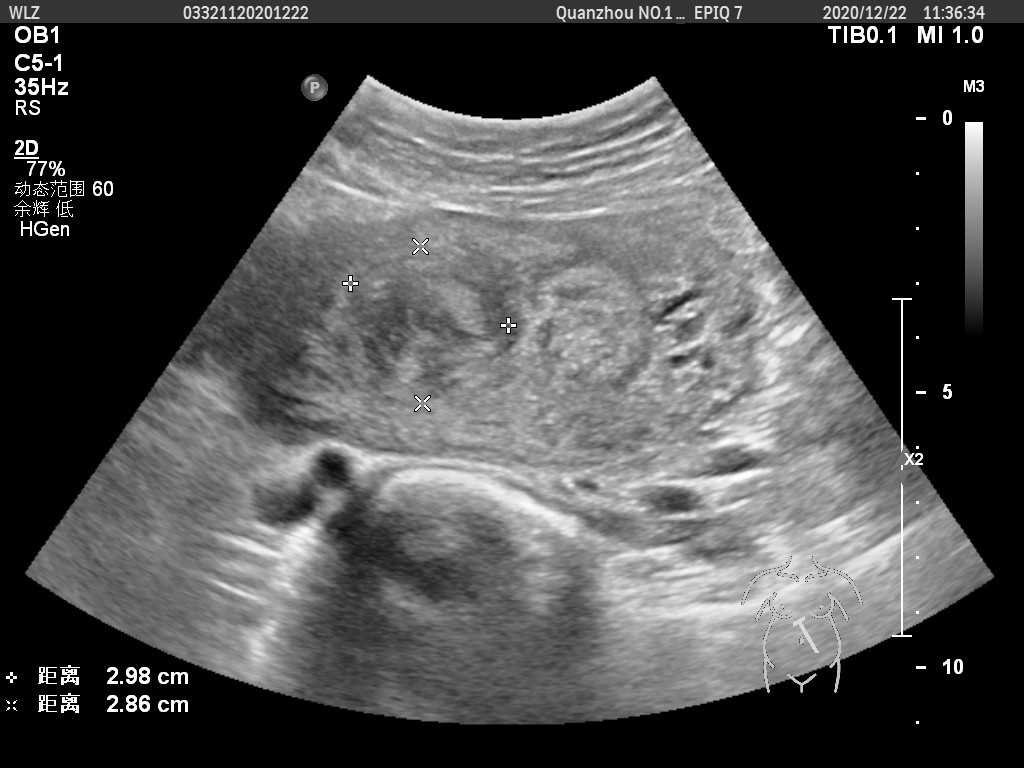肌瘤: (349, 245, 515, 404)
